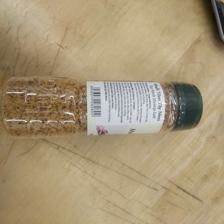TayNinh_green: (1, 75, 205, 137)
